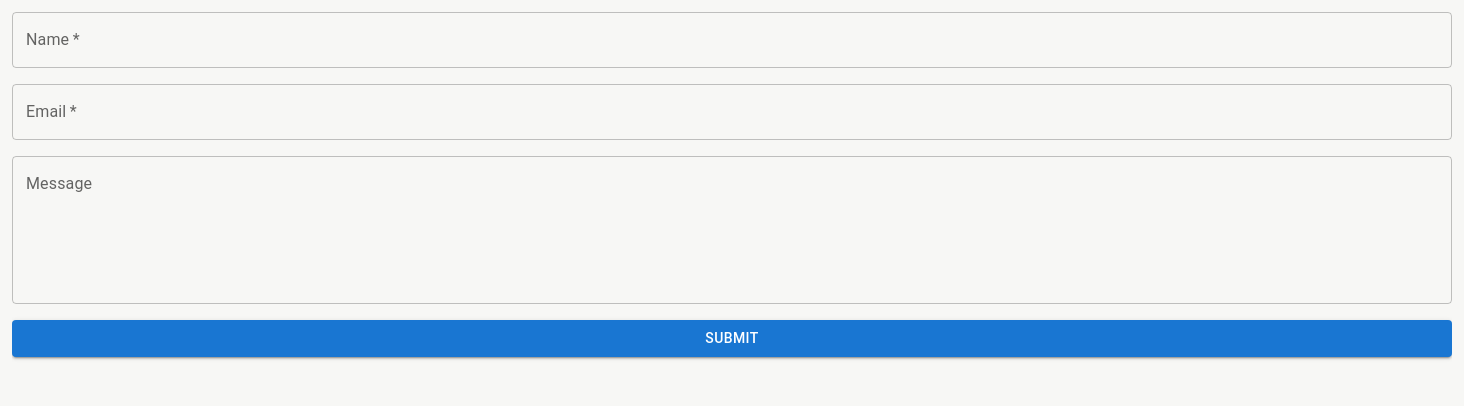
Test: ContactForm › uses the field invalid message for a bad email
The width and height of the screenshot is (1464, 406).
In the field labelled "Name *": (732, 40) x1=12 y1=12 x2=1452 y2=68, type "Ada Lovelace"
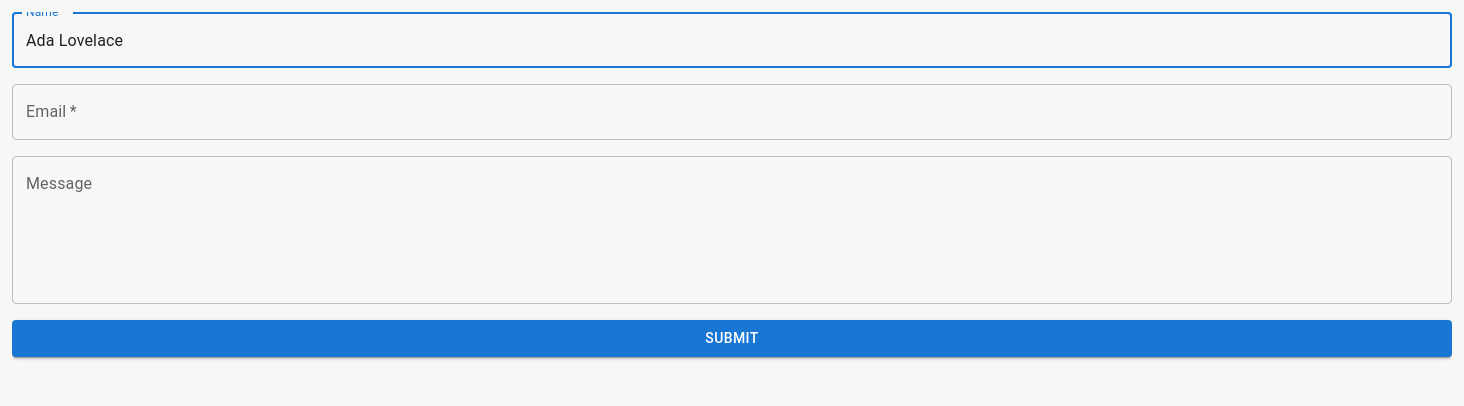
In the field labelled "Email *": (732, 112) x1=12 y1=84 x2=1452 y2=140, type "not-an-email"
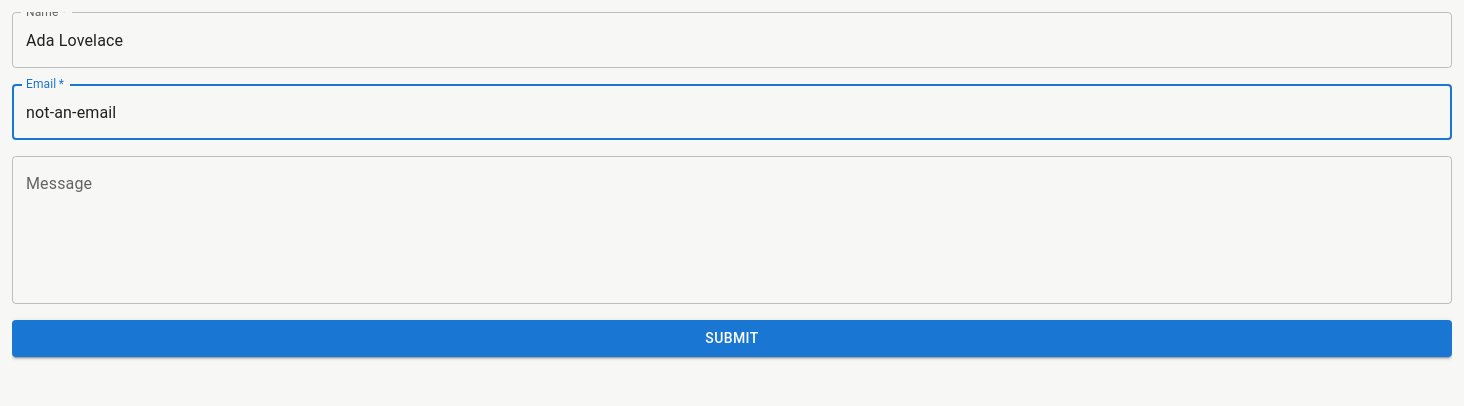
Click the button "Submit": click(732, 338) x1=12 y1=320 x2=1452 y2=356
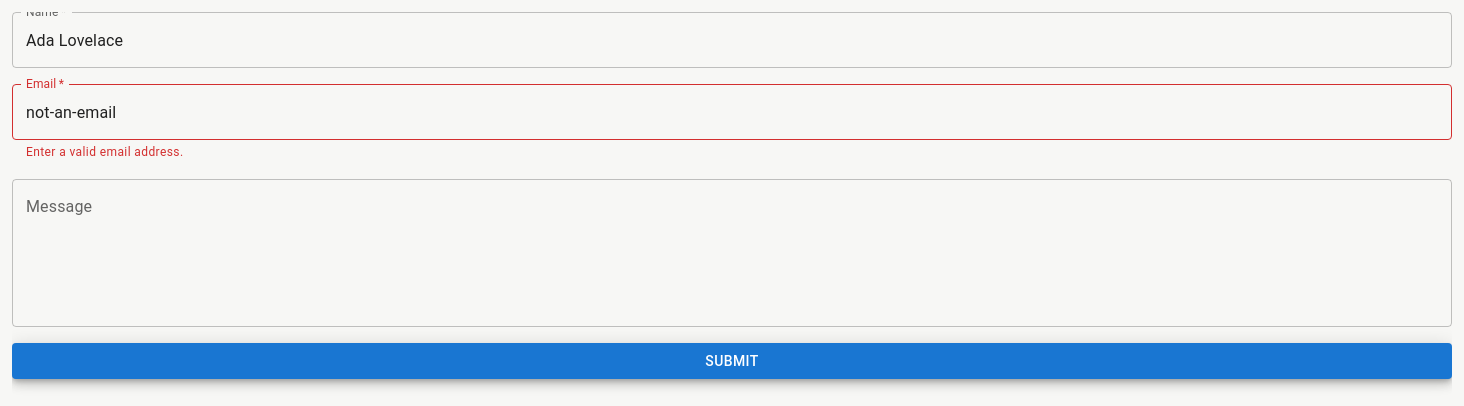
expect the text "Enter a valid email address." is shown: met, box x1=26 y1=145 x2=184 y2=159
